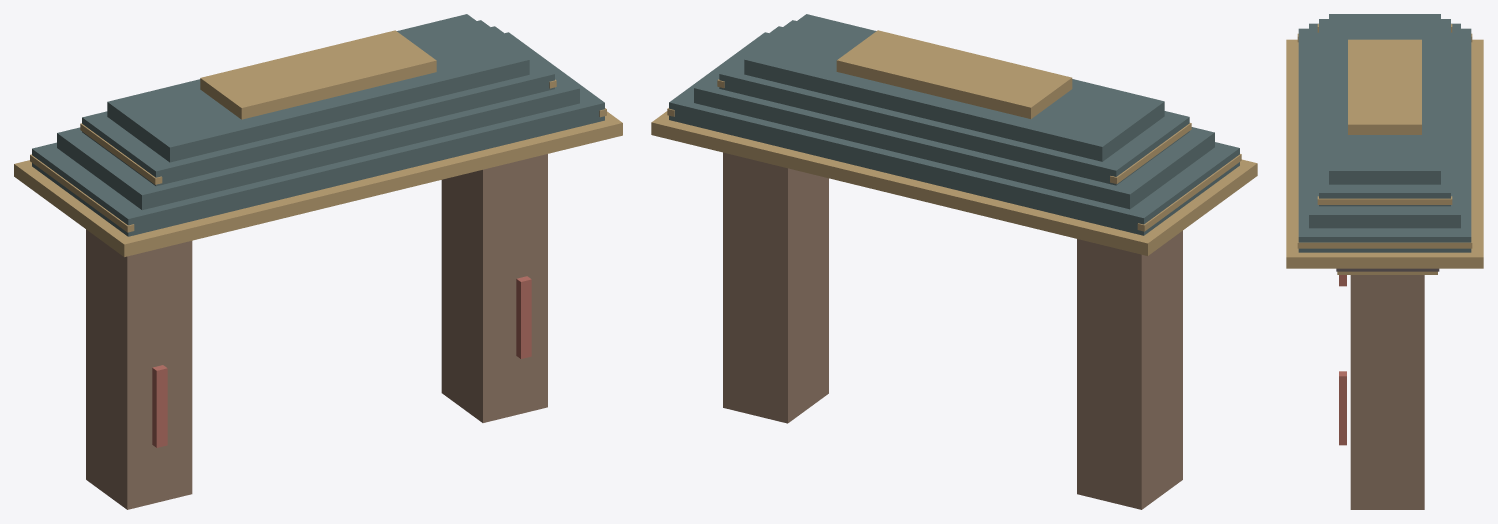
File: martial_gate.glb
The picture shows the model from 3 angles, left to right: view 1: azimuth 30°, elevation 25°; view 2: azimuth 150°, elevation 25°; view 3: azimuth 270°, elevation 25°; orthographic projection. The views are drawn at different scales.
Visible parts, largest first — view 1: martial_gate_04_roof_courses, martial_gate_00_gate_posts, martial_gate_03_eaves, martial_gate_06_upper_ridge, martial_gate_07_banners, martial_gate_05_ridge_trim; view 2: martial_gate_04_roof_courses, martial_gate_00_gate_posts, martial_gate_03_eaves, martial_gate_06_upper_ridge, martial_gate_05_ridge_trim; view 3: martial_gate_04_roof_courses, martial_gate_00_gate_posts, martial_gate_03_eaves, martial_gate_06_upper_ridge, martial_gate_05_ridge_trim, martial_gate_07_banners, martial_gate_02_lintel, martial_gate_01_caps.
Boxes of the visible parts, left/top/right/bottom form: martial_gate_04_roof_courses: left=32, top=14, right=604, bottom=236; martial_gate_00_gate_posts: left=86, top=154, right=547, bottom=509; martial_gate_03_eaves: left=14, top=111, right=622, bottom=257; martial_gate_06_upper_ridge: left=200, top=30, right=436, bottom=119; martial_gate_07_banners: left=152, top=276, right=531, bottom=447; martial_gate_05_ridge_trim: left=30, top=79, right=606, bottom=232; martial_gate_04_roof_courses: left=669, top=14, right=1239, bottom=235; martial_gate_00_gate_posts: left=723, top=152, right=1182, bottom=509; martial_gate_03_eaves: left=651, top=111, right=1257, bottom=255; martial_gate_06_upper_ridge: left=836, top=30, right=1072, bottom=118; martial_gate_05_ridge_trim: left=667, top=79, right=1241, bottom=231; martial_gate_04_roof_courses: left=1298, top=14, right=1471, bottom=252; martial_gate_00_gate_posts: left=1350, top=275, right=1424, bottom=509; martial_gate_03_eaves: left=1286, top=39, right=1483, bottom=268; martial_gate_06_upper_ridge: left=1348, top=39, right=1421, bottom=134; martial_gate_05_ridge_trim: left=1297, top=24, right=1472, bottom=248; martial_gate_07_banners: left=1339, top=275, right=1346, bottom=445; martial_gate_02_lintel: left=1336, top=268, right=1439, bottom=271; martial_gate_01_caps: left=1337, top=271, right=1437, bottom=274.
Bounding box in the file's own units: 11.5 × 8.27 × 4.4.
